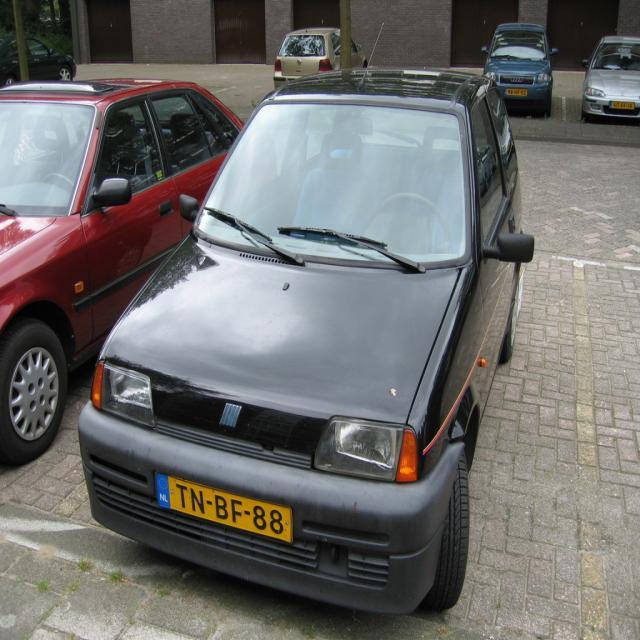car: (74, 67, 539, 623)
